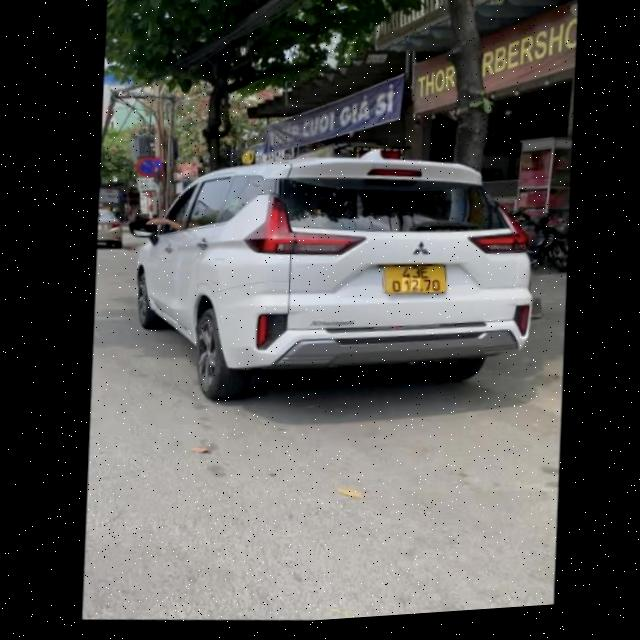car: (126, 128, 540, 423)
motorcycle: (522, 204, 570, 274)
plate: (374, 253, 452, 303)
